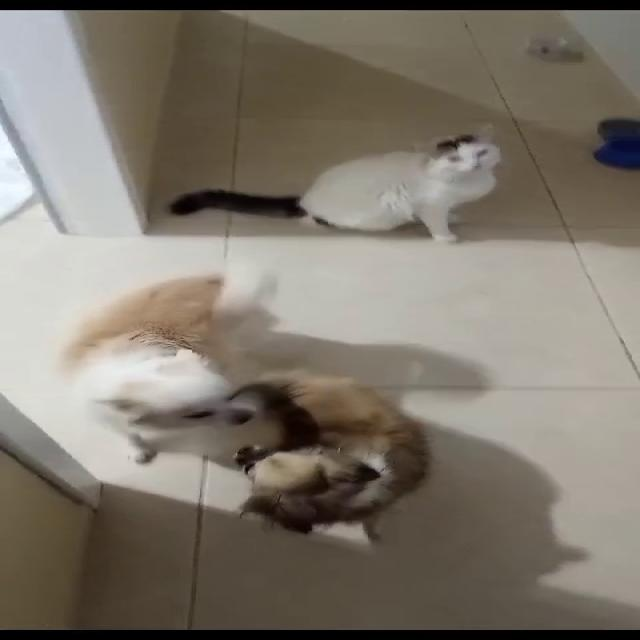Pedrita: (158, 360, 484, 554)
Simba: (236, 102, 615, 298)
Theo: (80, 269, 292, 469)
